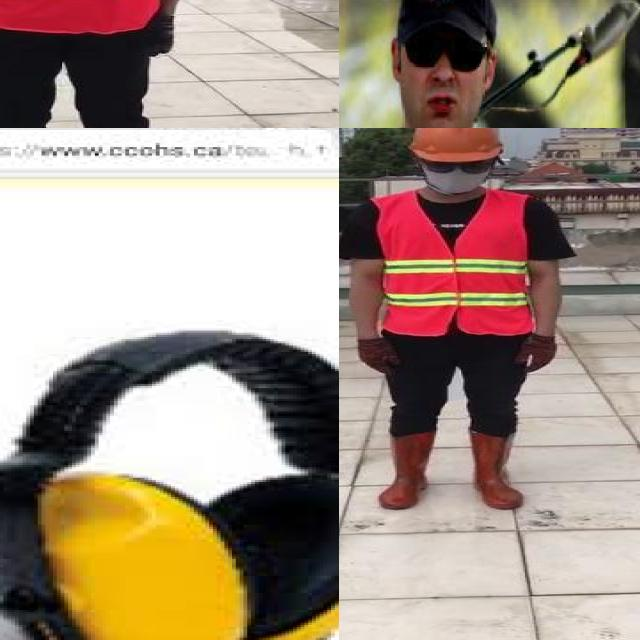Ear-protection: (0, 469, 254, 640), (203, 464, 339, 640)
boots: (468, 429, 525, 510), (378, 433, 436, 511)
face_mask: (420, 154, 490, 192)
face_nomask: (402, 30, 489, 125)
glasses: (398, 17, 496, 64), (422, 156, 495, 177)
hand_glove: (356, 337, 399, 376), (518, 337, 557, 371), (146, 13, 174, 58)
head_helmet: (407, 128, 509, 166)
person: (348, 128, 570, 509), (339, 0, 637, 128), (0, 0, 222, 128)
vest: (376, 190, 534, 335)
